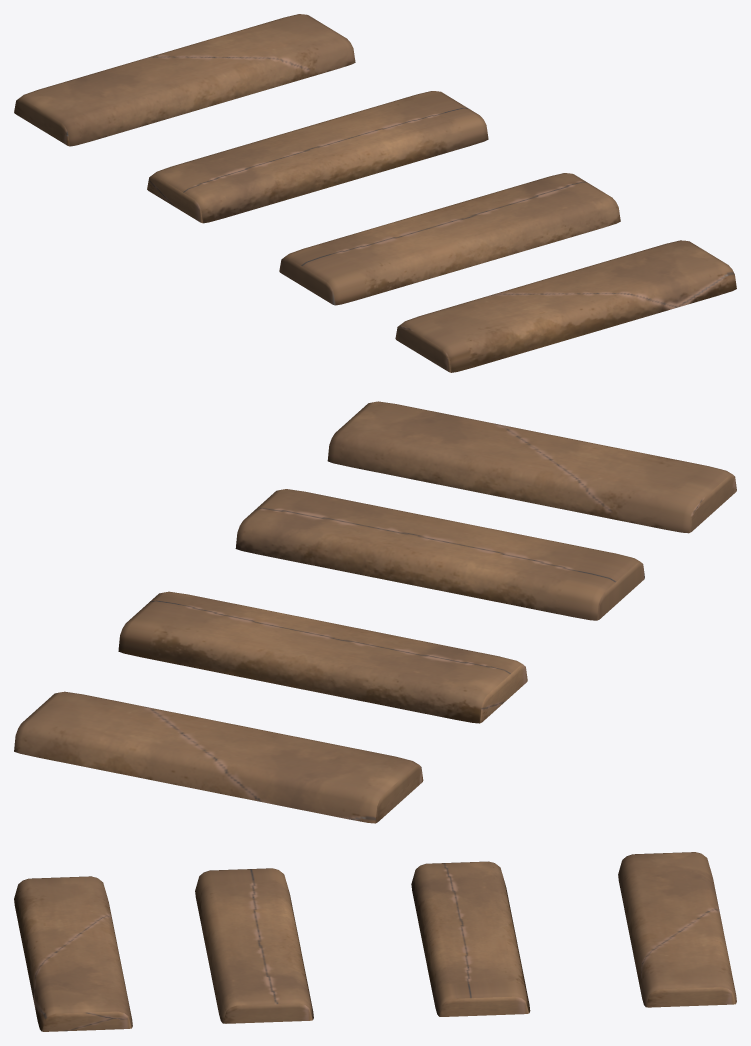
The model's file is passage_cloutee.fbx.
3 views of the same model, one above another, from view 1: azimuth 30°, elevation 25°; view 2: azimuth 150°, elevation 25°; view 3: azimuth 270°, elevation 25° (orthographic). The views are drawn at different scales.
Parts seen in each view (by area): view 1: Cube.025; view 2: Cube.025; view 3: Cube.025.
Boxes of the visible parts, bbox=[...] form: Cube.025: bbox=[14, 14, 736, 372]; Cube.025: bbox=[14, 401, 736, 823]; Cube.025: bbox=[14, 852, 736, 1031].
Size of the model in its own units: 0.0846 by 0.1584 by 0.00488.
Materials: 1 (1 with a texture image).
